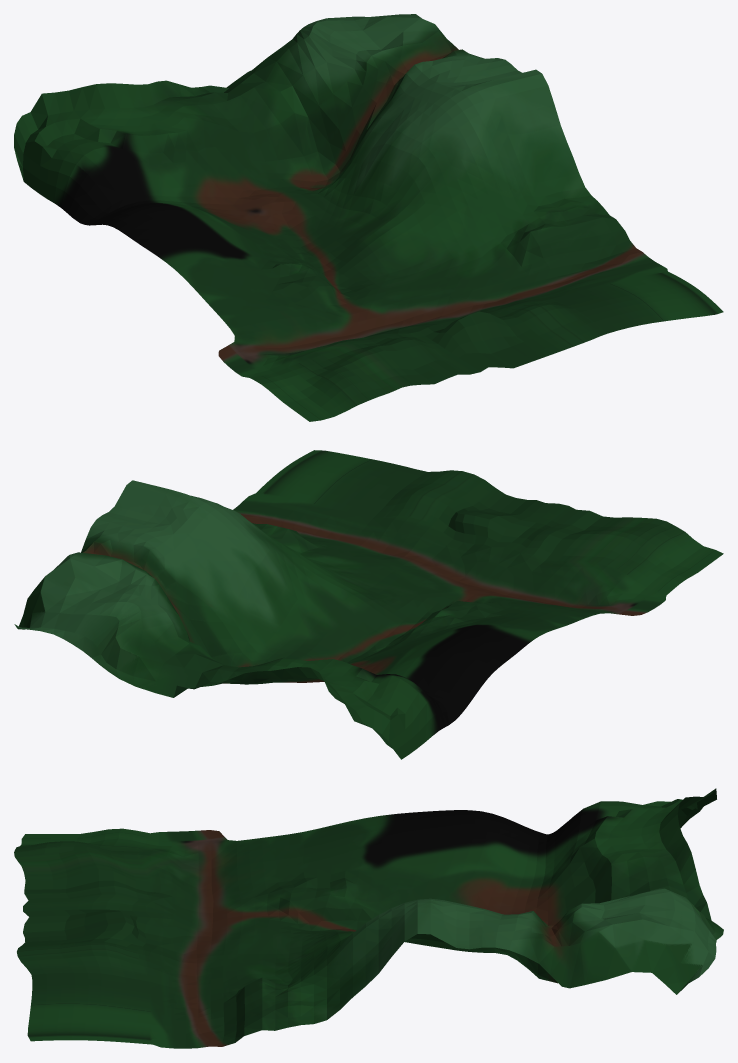
Rendered from Ground.glb.
3 renders of one model, top to bottom at view 1: azimuth 30°, elevation 25°; view 2: azimuth 150°, elevation 25°; view 3: azimuth 270°, elevation 25°, orthographic. The views are drawn at different scales.
Parts seen in each view (by area): view 1: Ground; view 2: Ground; view 3: Ground.
Boxes of the visible parts, x1=… form: Ground: x1=14, y1=14, x2=723, y2=421; Ground: x1=14, y1=450, x2=723, y2=759; Ground: x1=14, y1=788, x2=723, y2=1048.
Size of the model in its own units: 153 by 40.98 by 210.
1 material, 1 textured.
